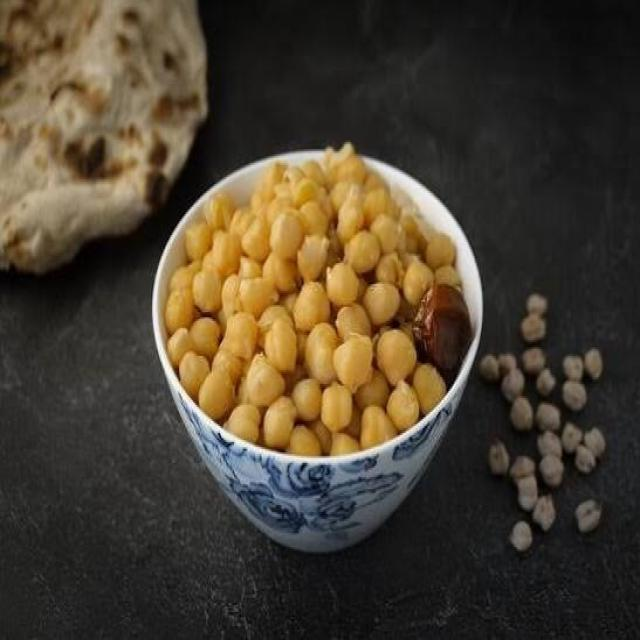Nakhi: (158, 139, 484, 463)
